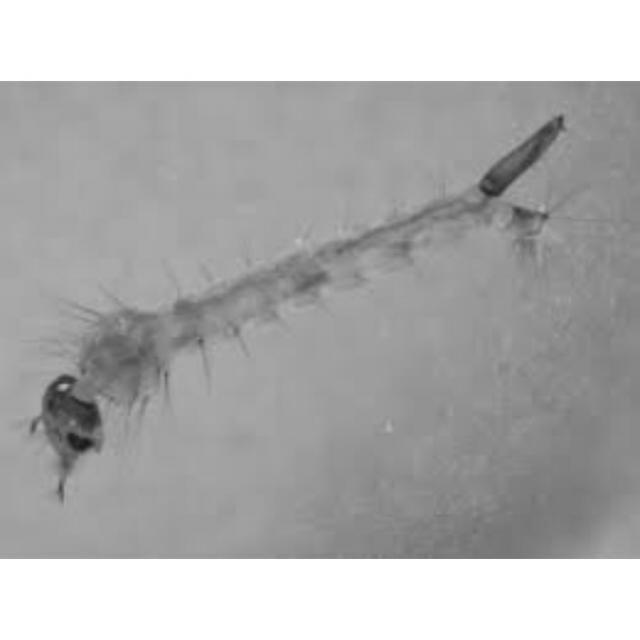larvas: (45, 111, 567, 456)
